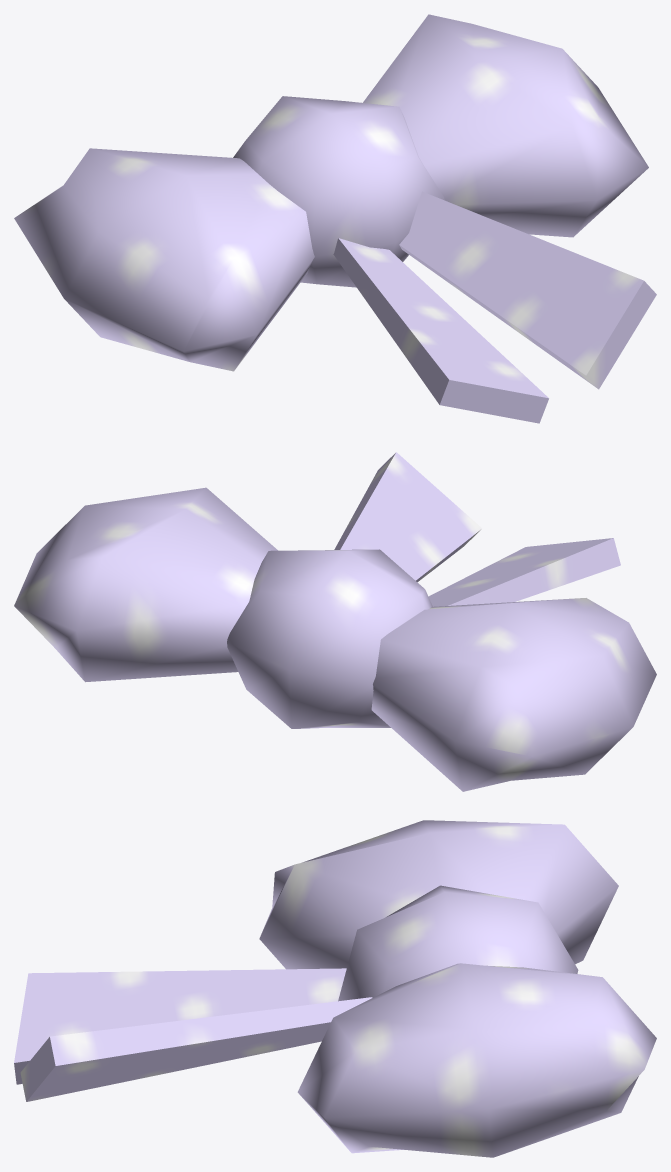
Rendered from Asset_BunnyTie.fbx.
The picture shows the model from 3 angles, top to bottom: view 1: azimuth 30°, elevation 25°; view 2: azimuth 150°, elevation 25°; view 3: azimuth 270°, elevation 25°; orthographic projection. The views are drawn at different scales.
Visible parts, largest first — view 1: Asset_BunnyTie; view 2: Asset_BunnyTie; view 3: Asset_BunnyTie.
Part boxes in pixels (x1,y1,x2,y2): Asset_BunnyTie: (14, 14, 656, 423); Asset_BunnyTie: (14, 452, 656, 791); Asset_BunnyTie: (14, 820, 656, 1157).
Bounding box in the file's own units: 45.69 × 14.66 × 41.39.
